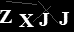J: (57, 11, 69, 26), (38, 13, 50, 27)
X: (17, 13, 35, 28)
Z: (1, 8, 12, 23)
